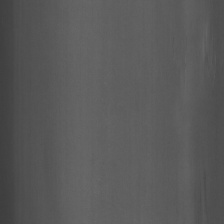silk_spot: (188, 25, 222, 75), (189, 157, 215, 213)
